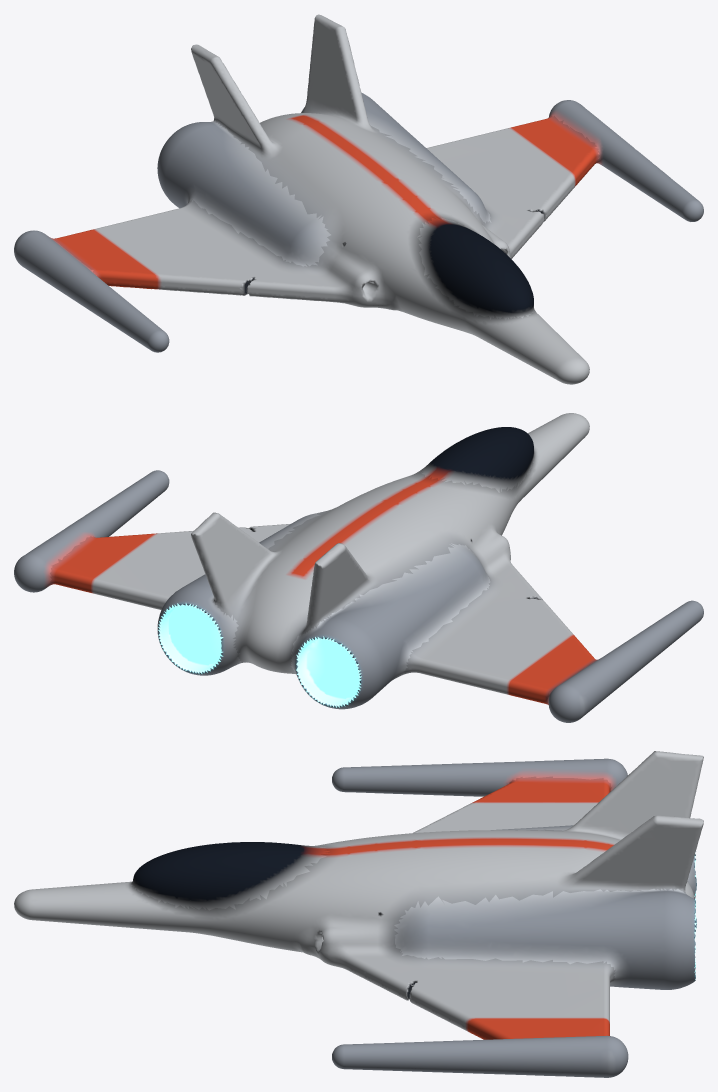
File: spaceship.glb
3 renders of one model, top to bottom at view 1: azimuth 30°, elevation 25°; view 2: azimuth 150°, elevation 25°; view 3: azimuth 270°, elevation 25°, orthographic. The views are drawn at different scales.
Visible parts, largest first — view 1: robot; view 2: robot; view 3: robot.
Boxes of the visible parts, bbox=[...] form: robot: bbox=[14, 14, 703, 384]; robot: bbox=[14, 413, 703, 722]; robot: bbox=[14, 751, 703, 1077].
Size of the model in its own units: 2.81 by 0.7359 by 2.78.
